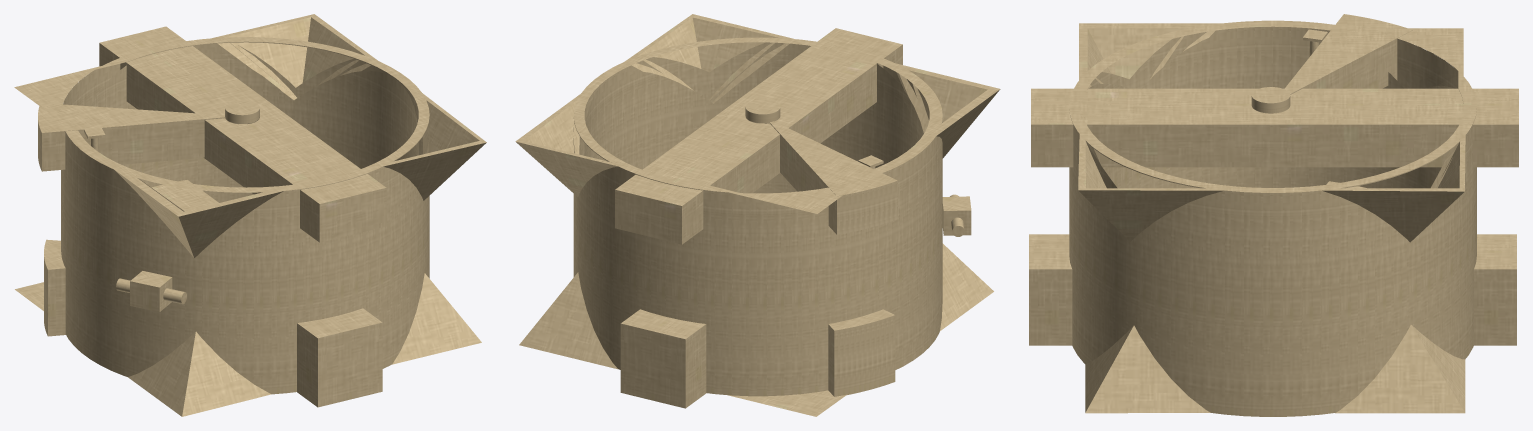
Rendered from kyq2.dae.
The picture shows the model from 3 angles, left to right: view 1: azimuth 30°, elevation 25°; view 2: azimuth 150°, elevation 25°; view 3: azimuth 270°, elevation 25°; orthographic projection. The views are drawn at different scales.
Parts seen in each view (by area): view 1: SketchUp (×3); view 2: SketchUp (×3); view 3: SketchUp (×2).
Part boxes in pixels (x1,y1,x2,y2): SketchUp (×3): (14,14,486,416); SketchUp (×3): (515,14,1000,416); SketchUp (×2): (1029,14,1518,416).
Bounding box in the file's own units: 10.48 × 12.14 × 6.41.
Materials: 1 (1 with a texture image).
